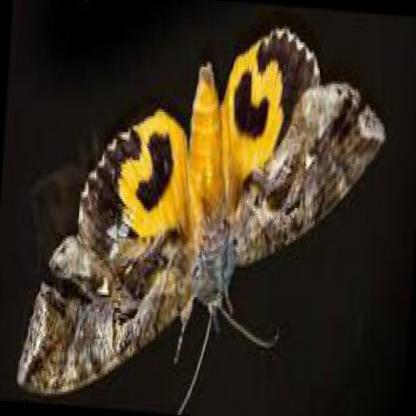fruit sucking moth: (13, 27, 385, 398)
